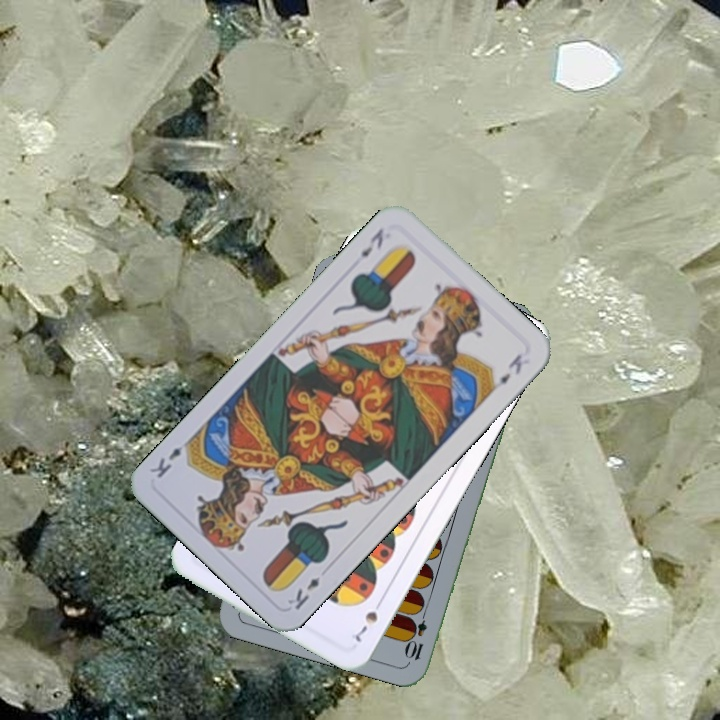E10: (403, 604, 430, 663)
EK: (283, 573, 323, 613), (356, 224, 387, 260)
S7: (350, 594, 386, 645)
